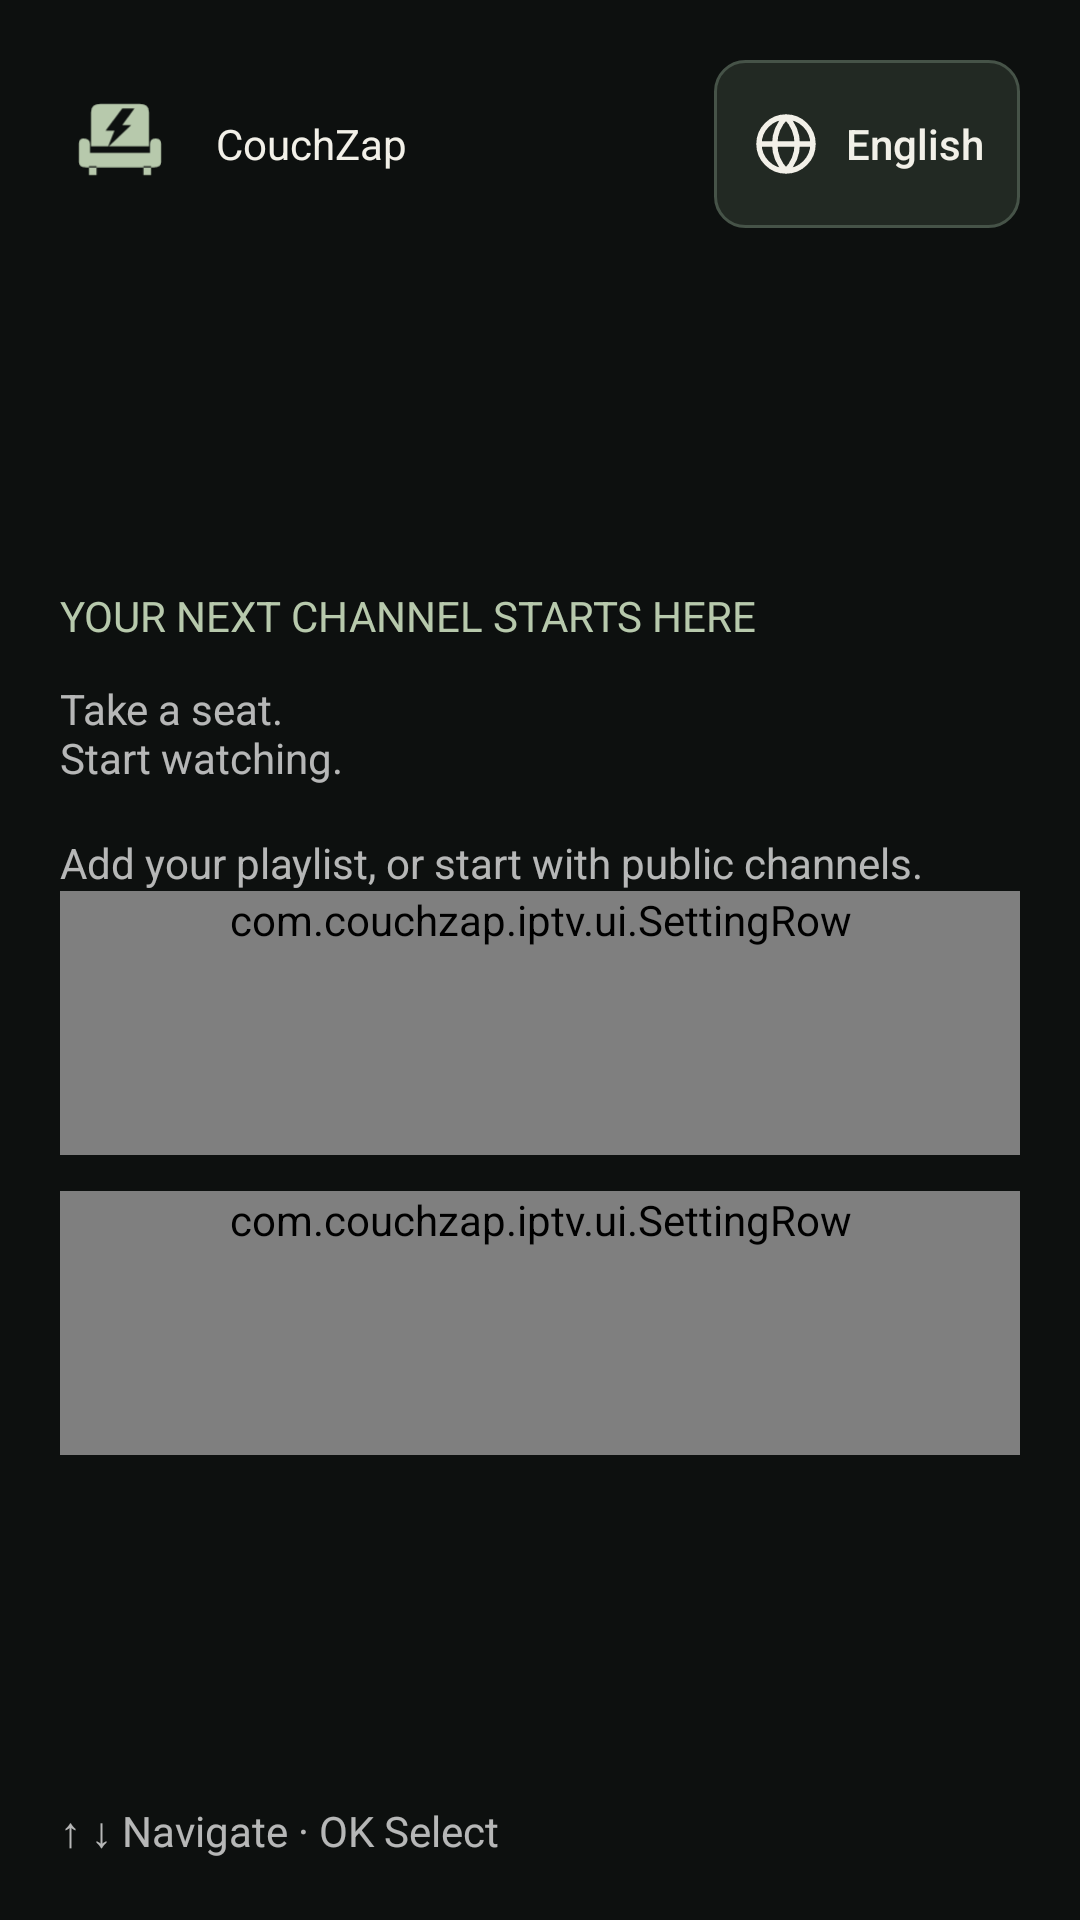

Named icons in this screenshot (1080*1920) and their bounding boxes, (left=x1, top=y1, right=x2, bottom=y2):
brand: (left=78, top=103, right=162, bottom=176)
